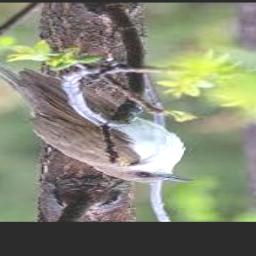Cuckoo: (0, 22, 195, 183)
